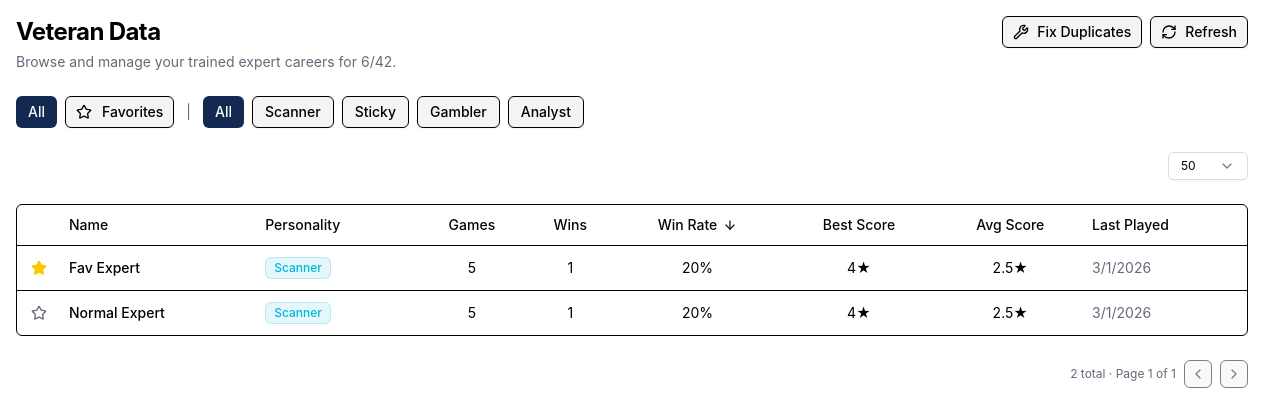
Test case: VeteranDataPage › favorites filter hides non-favorites
This screenshot has width=1265, height=405.
Click the button "Favorites" at (120, 112), box 65,96 -> 174,128
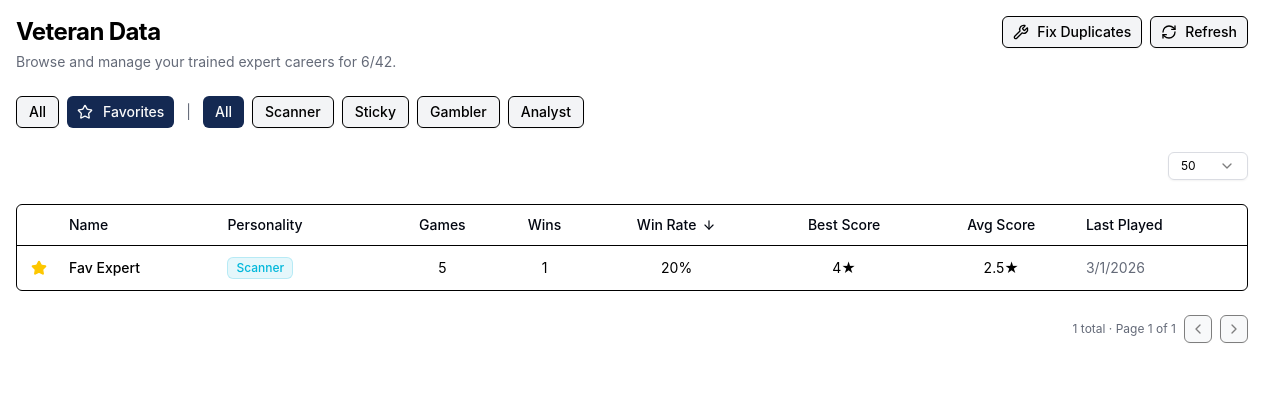
Expected: the text "Fav Expert" is shown, 61,245 -> 220,290
Expected: the text "Normal Expert" is gone
